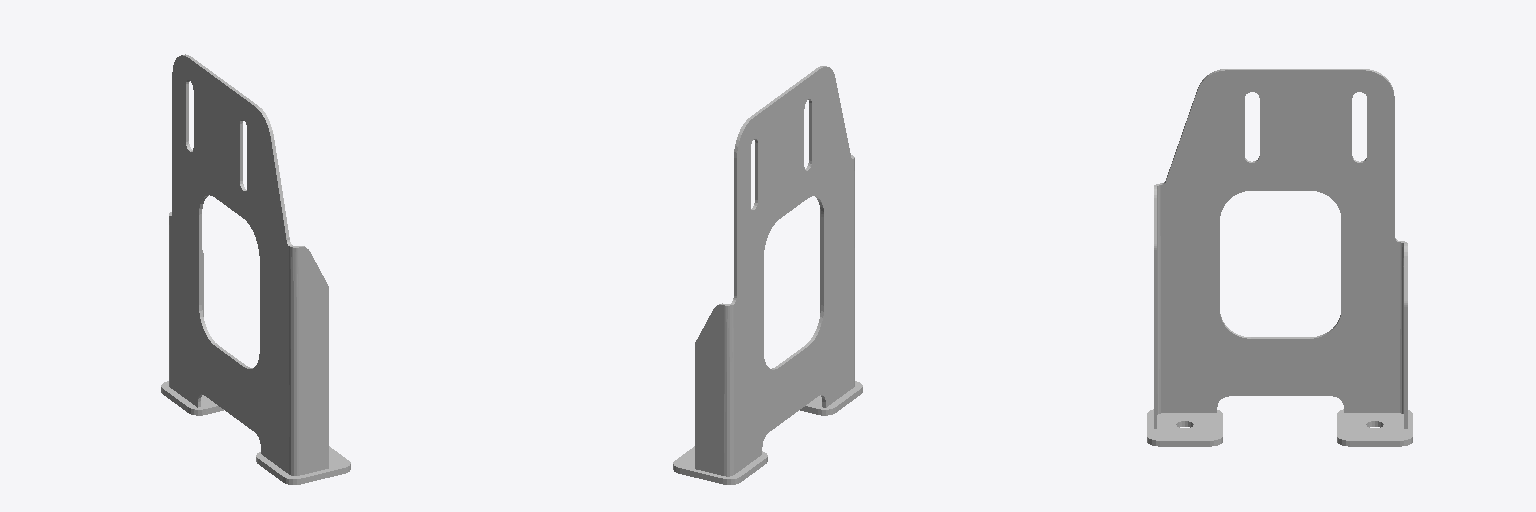
Rendered from wspornik_sredni_lewy.obj.
3 renders of one model, left to right at view 1: azimuth 30°, elevation 25°; view 2: azimuth 150°, elevation 25°; view 3: azimuth 270°, elevation 25°, orthographic.
Visible parts, largest first — view 1: Bryła395; view 2: Bryła395; view 3: Bryła395.
Boxes of the visible parts, <box> form: Bryła395: <box>161,54,350,484</box>; Bryła395: <box>673,66,862,484</box>; Bryła395: <box>1147,69,1412,446</box>.
Bounding box in the file's own units: 60 × 304 × 210.